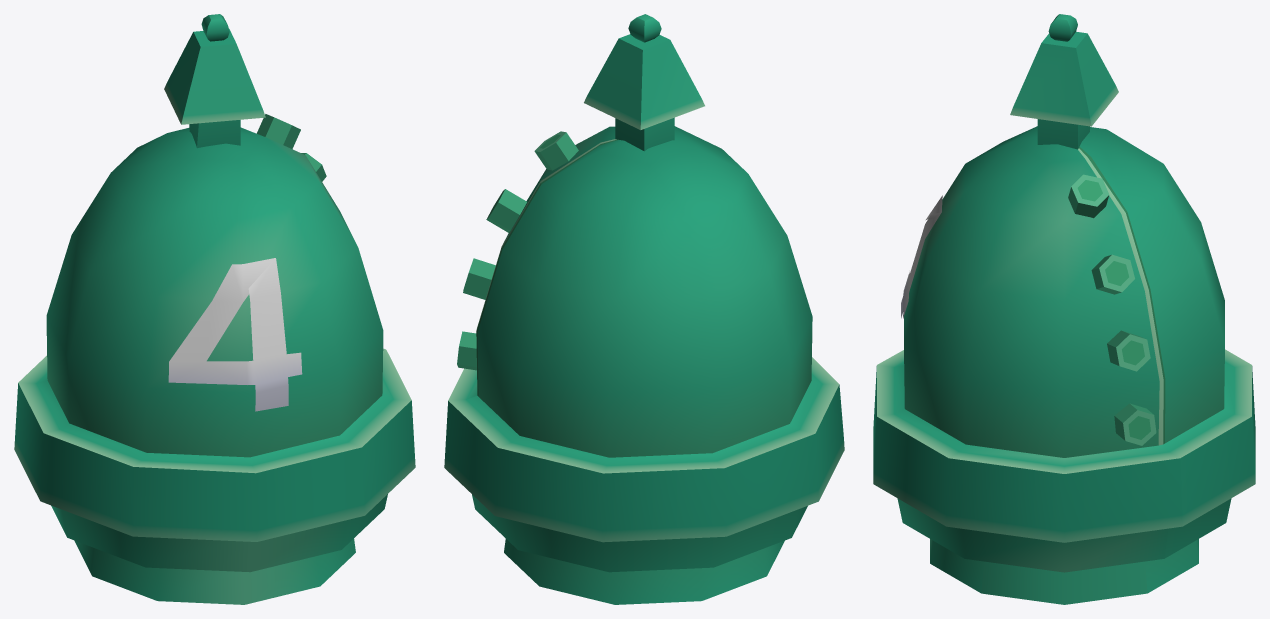
The model's file is buoyFour.glb.
3 views of the same model, side by side, from view 1: azimuth 30°, elevation 25°; view 2: azimuth 150°, elevation 25°; view 3: azimuth 270°, elevation 25° (orthographic).
Parts seen in each view (by area): view 1: buoyFour; view 2: buoyFour; view 3: buoyFour.
Part boxes in pixels (left/top/right/bottom): buoyFour: left=14, top=14, right=415, bottom=604; buoyFour: left=444, top=14, right=844, bottom=604; buoyFour: left=873, top=14, right=1255, bottom=604.
Bounding box in the file's own units: 0.6018 × 0.8748 × 0.5724.
